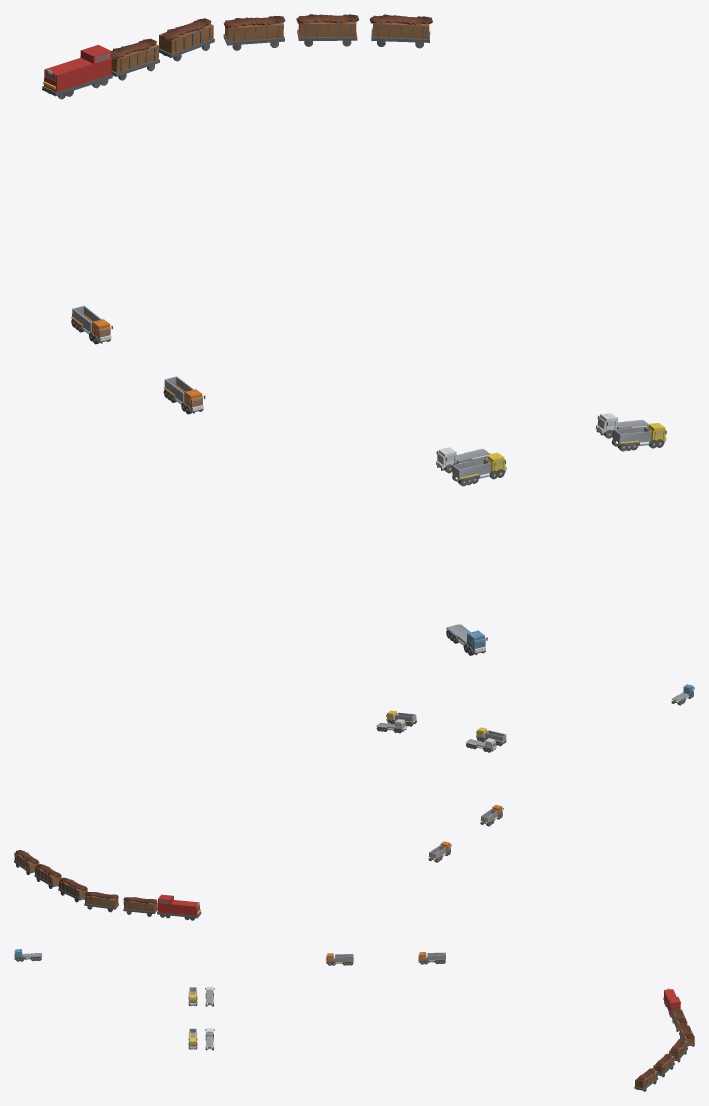
The model's file is Vehicles_P2.fbx.
3 renders of one model, top to bottom at view 1: azimuth 30°, elevation 25°; view 2: azimuth 150°, elevation 25°; view 3: azimuth 270°, elevation 25°, orthographic. The views are drawn at different scales.
Visible parts, largest first — view 1: train, wagon.002, wagon.003, wagon.004, wagon.001, wagon, truck_road_ore2, truck_road_ore3, truck_road_ore0, truck_road_ore1; view 2: train, wagon.001, wagon, wagon.002, wagon.003, wagon.004; view 3: wagon.004, wagon.003, truck_road_ore0, truck_road_ore1, train, wagon.002, truck_road_cargo2, wagon.001, wagon.
Boxes of the visible parts, <box> form: train: <box>42,45,112,99</box>; wagon.002: <box>223,15,285,50</box>; wagon.003: <box>296,14,358,46</box>; wagon.004: <box>369,14,432,48</box>; wagon.001: <box>159,18,214,61</box>; wagon: <box>111,38,159,80</box>; truck_road_ore2: <box>450,452,506,486</box>; truck_road_ore3: <box>611,423,666,451</box>; truck_road_ore0: <box>71,305,112,344</box>; truck_road_ore1: <box>163,376,205,414</box>; train: <box>157,894,201,920</box>; wagon.001: <box>84,892,118,912</box>; wagon: <box>123,897,157,916</box>; wagon.002: <box>58,877,87,902</box>; wagon.003: <box>34,864,61,888</box>; wagon.004: <box>14,850,39,874</box>; wagon.004: <box>634,1068,658,1091</box>; wagon.003: <box>653,1053,674,1077</box>; truck_road_ore0: <box>418,952,446,964</box>; truck_road_ore1: <box>325,953,354,965</box>; train: <box>663,988,680,1017</box>; wagon.002: <box>669,1038,687,1062</box>; truck_road_cargo2: <box>14,949,42,961</box>; wagon.001: <box>679,1024,694,1046</box>; wagon: <box>671,1008,687,1031</box>.
Size of the model in its own units: 12026 by 1201 by 24170.
